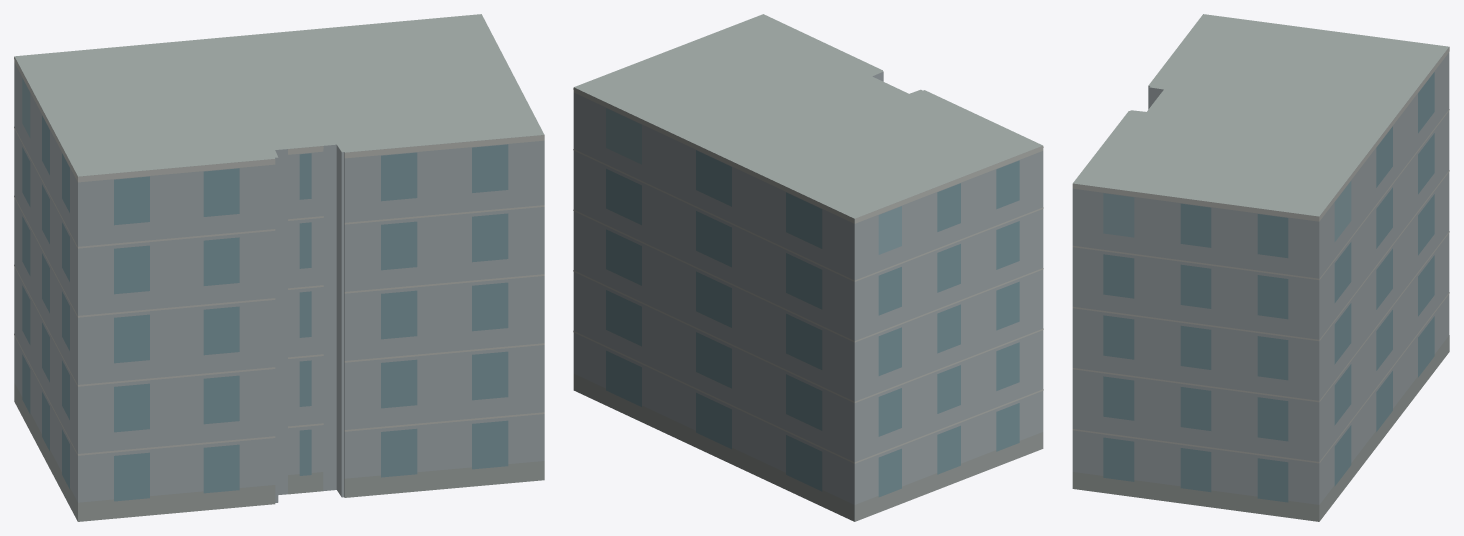
Rendered from survey-upis-33020999.glb.
3 views of the same model, side by side, from view 1: azimuth 30°, elevation 25°; view 2: azimuth 150°, elevation 25°; view 3: azimuth 270°, elevation 25° (orthographic). The views are drawn at different scales.
Parts seen in each view (by area): view 1: survey-upis-33020999.tmp; view 2: survey-upis-33020999.tmp; view 3: survey-upis-33020999.tmp.
Boxes of the visible parts, x1,y1,x2,y2 form: survey-upis-33020999.tmp: (14,14,544,521); survey-upis-33020999.tmp: (573,14,1043,521); survey-upis-33020999.tmp: (1072,14,1449,521).
Size of the model in its own units: 20.59 by 14.46 by 16.19.
